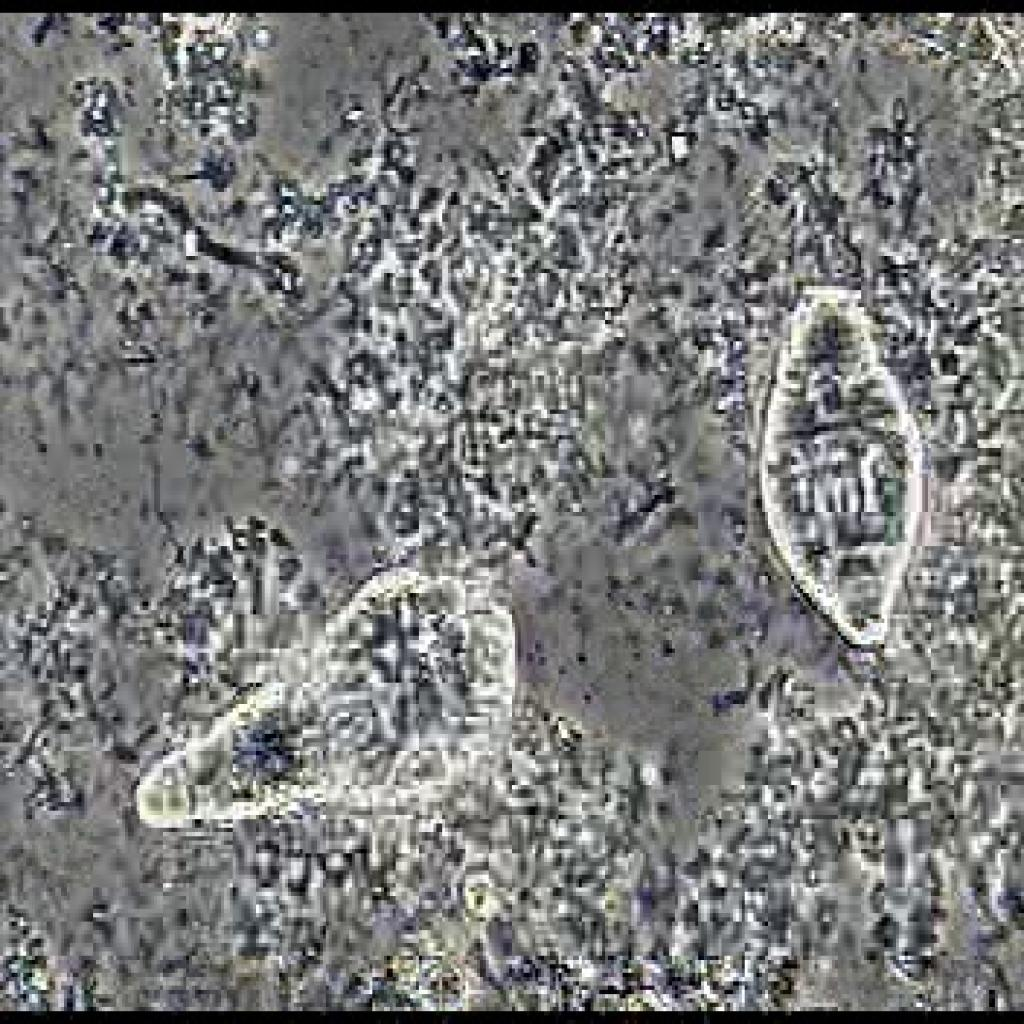Rotatoria: (126, 542, 534, 862), (756, 273, 928, 678)
